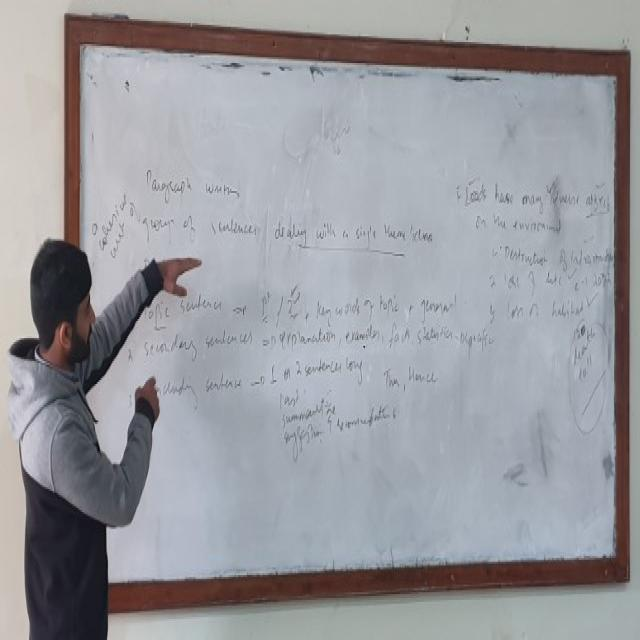Instructor: (10, 206, 118, 628)
White-board: (70, 30, 625, 604)
